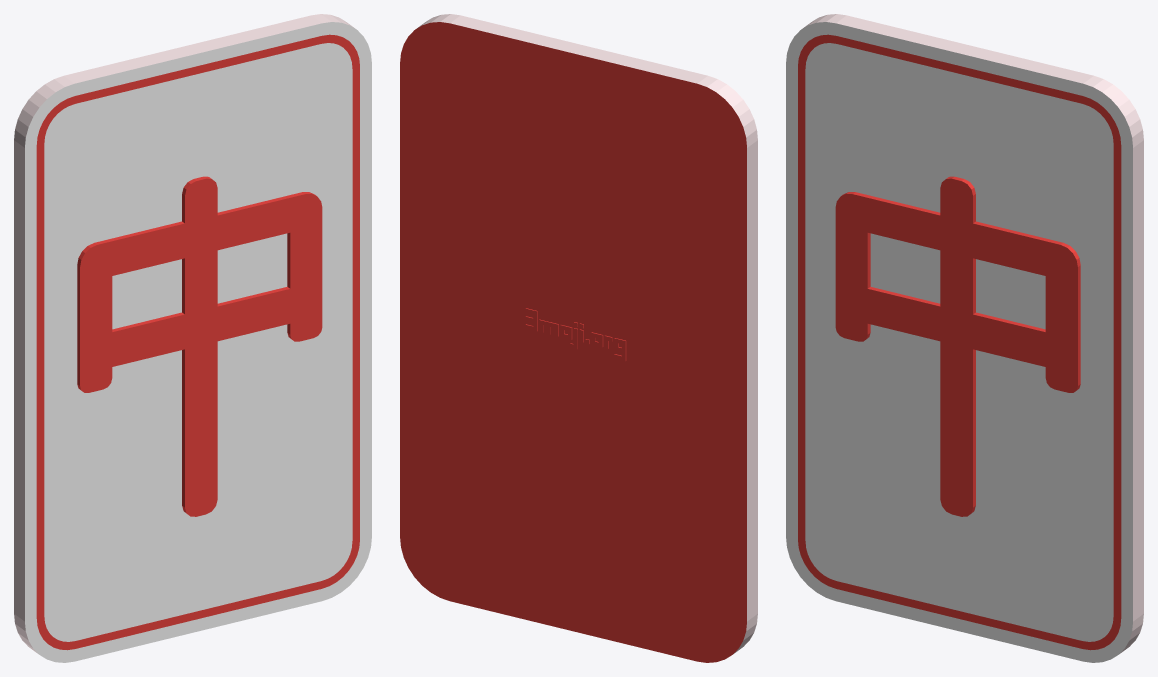
Rendered from mahjong_red_dragon.glb.
The picture shows the model from 3 angles, left to right: view 1: azimuth 30°, elevation 25°; view 2: azimuth 150°, elevation 25°; view 3: azimuth 330°, elevation 25°; orthographic projection.
Parts seen in each view (by area): view 1: Plane.007; view 2: Plane.007; view 3: Plane.007.
Part boxes in pixels (box(x1,y1,x2,y2)): Plane.007: box(14, 14, 371, 662); Plane.007: box(400, 14, 757, 662); Plane.007: box(786, 14, 1143, 662).
Bounding box in the file's own units: 1.48 × 2.36 × 0.106.
1 material, 1 textured.
